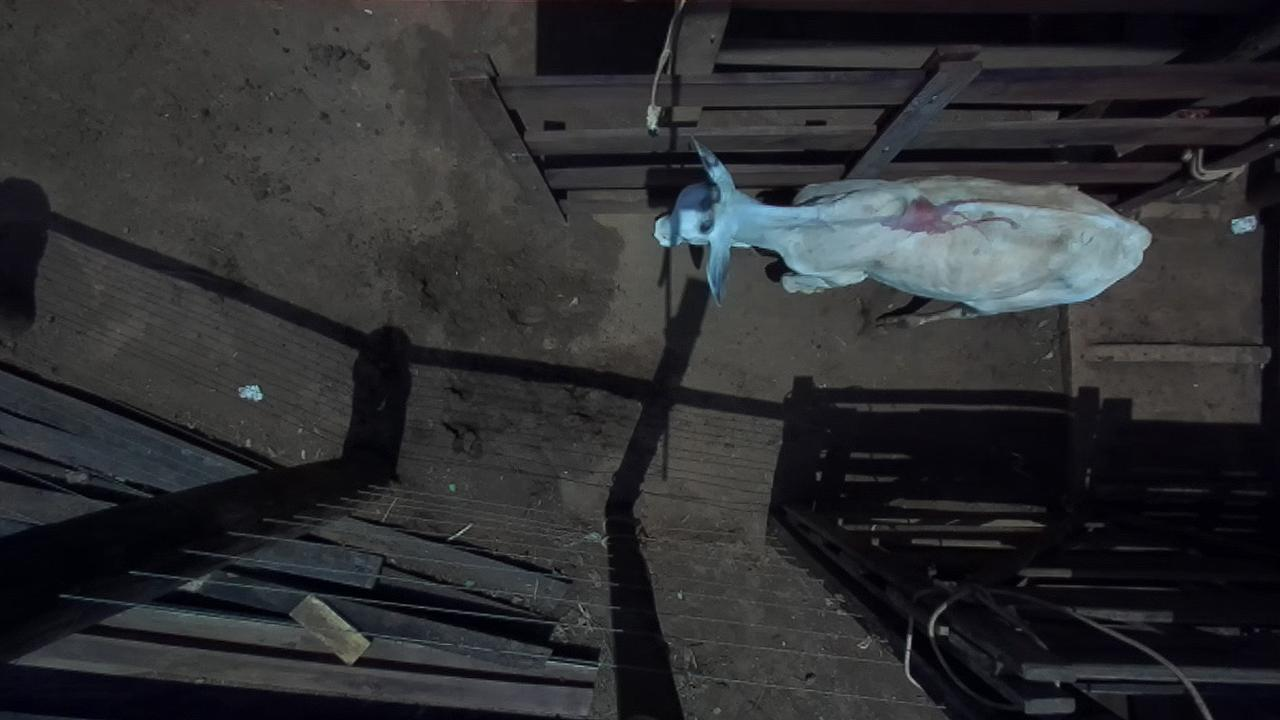cattle: (651, 134, 1153, 327)
